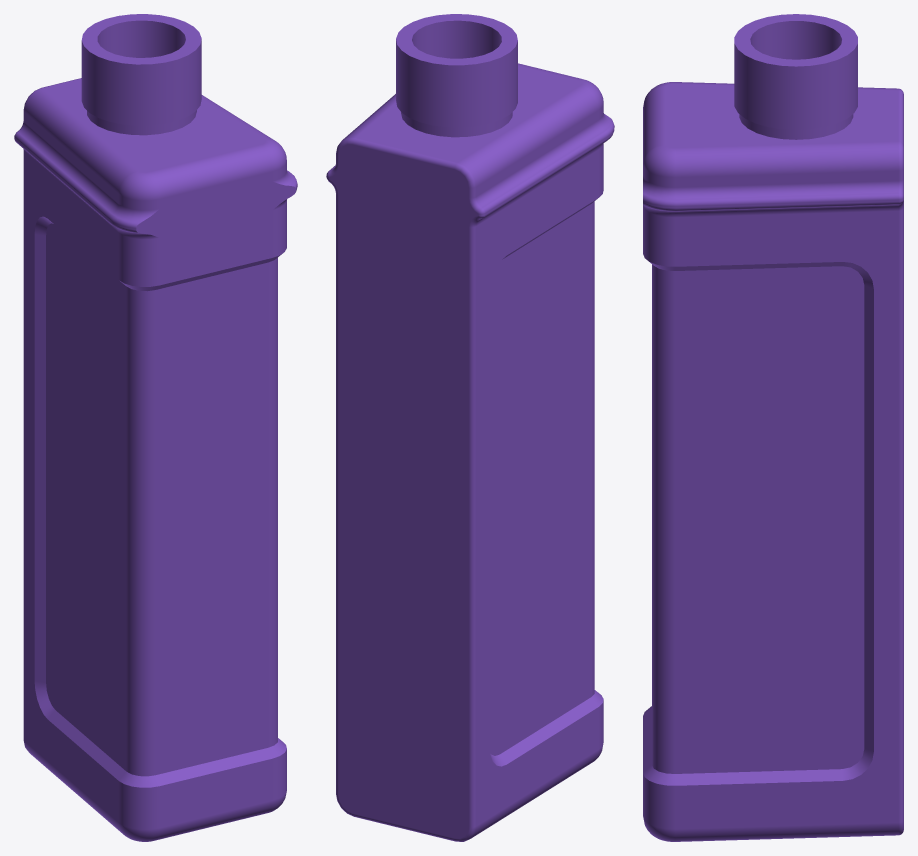
Rendered from test_purple.obj.
3 views of the same model, side by side, from view 1: azimuth 30°, elevation 25°; view 2: azimuth 150°, elevation 25°; view 3: azimuth 270°, elevation 25° (orthographic). The views are drawn at different scales.
Parts seen in each view (by area): view 1: Volumenkörper1; view 2: Volumenkörper1; view 3: Volumenkörper1.
Part boxes in pixels (left/top/right/bottom): Volumenkörper1: left=14, top=14, right=297, bottom=841; Volumenkörper1: left=326, top=14, right=614, bottom=841; Volumenkörper1: left=643, top=14, right=903, bottom=841.
Size of the model in its own units: 19.61 by 76.3 by 23.5.
